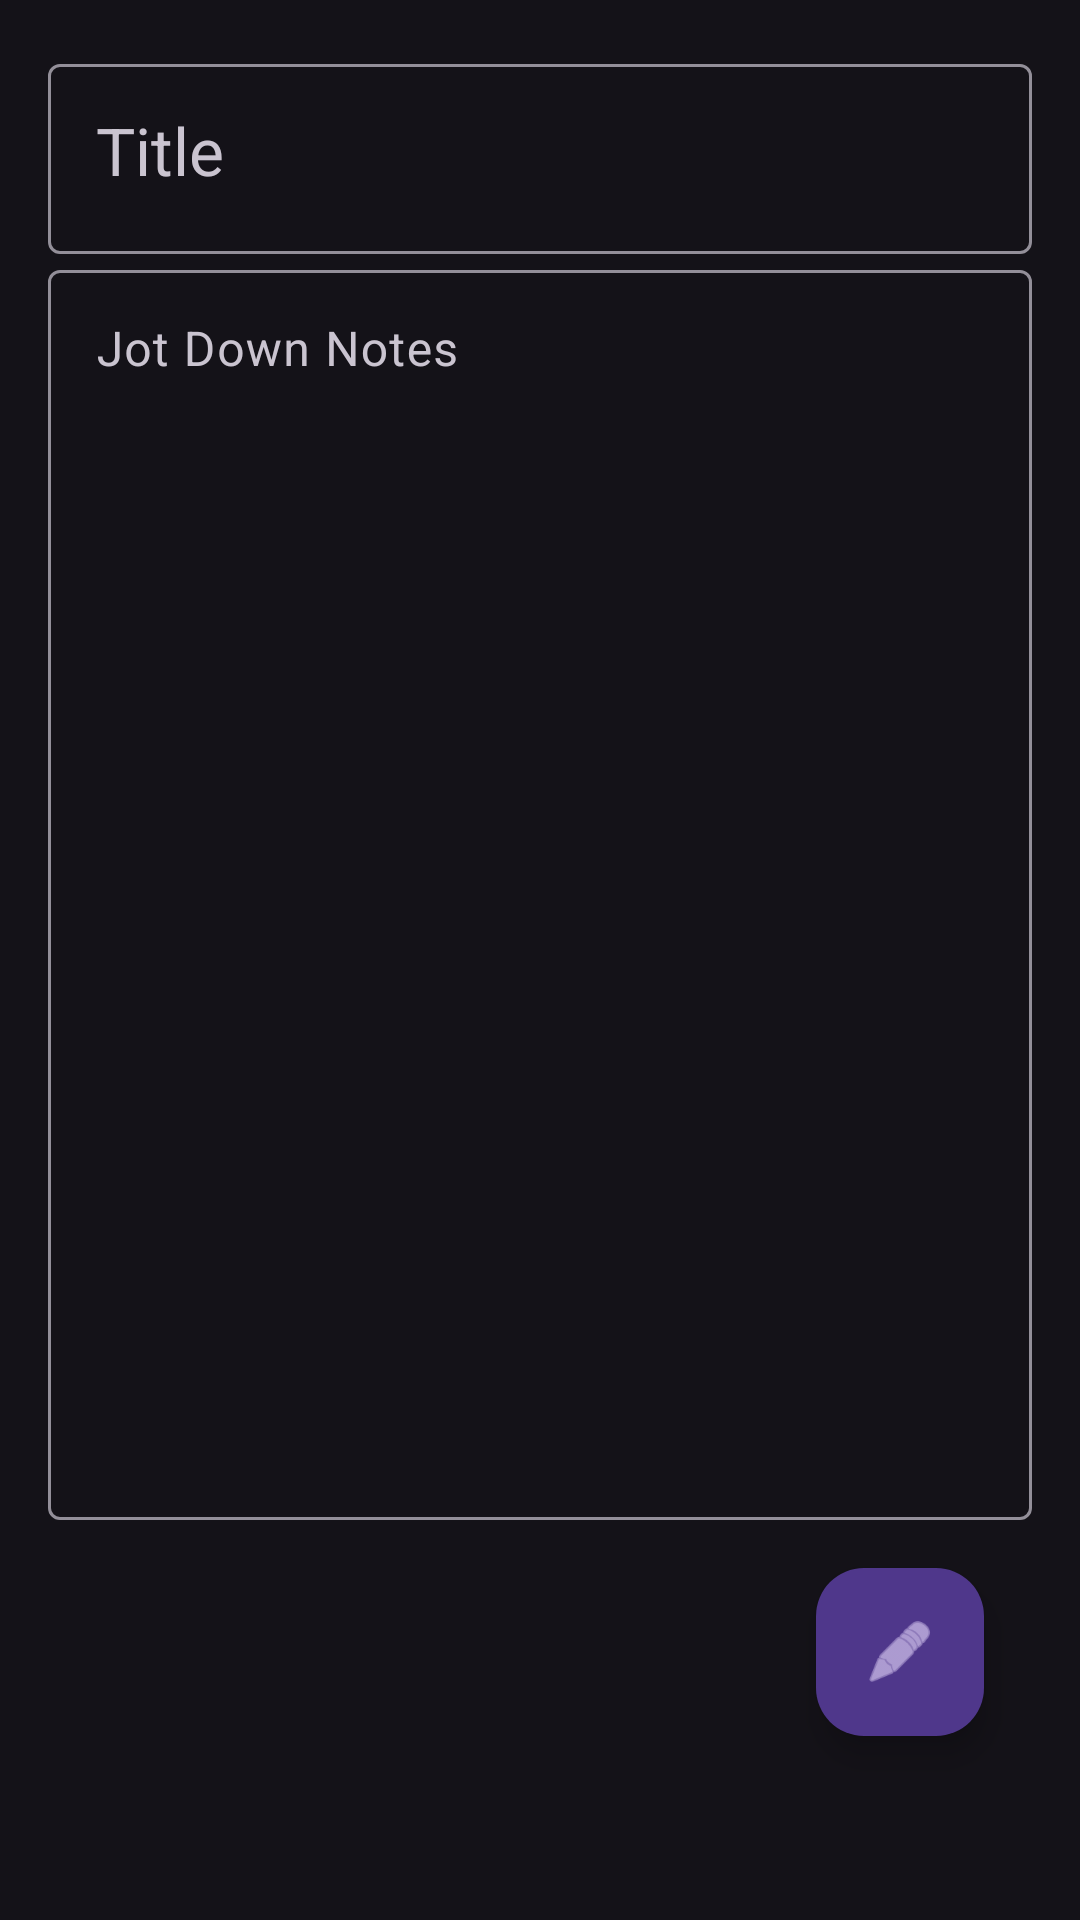

Screen size 1080*1920. Icon name, then its center in pixels as (x,y):
edit: (900,1652)
